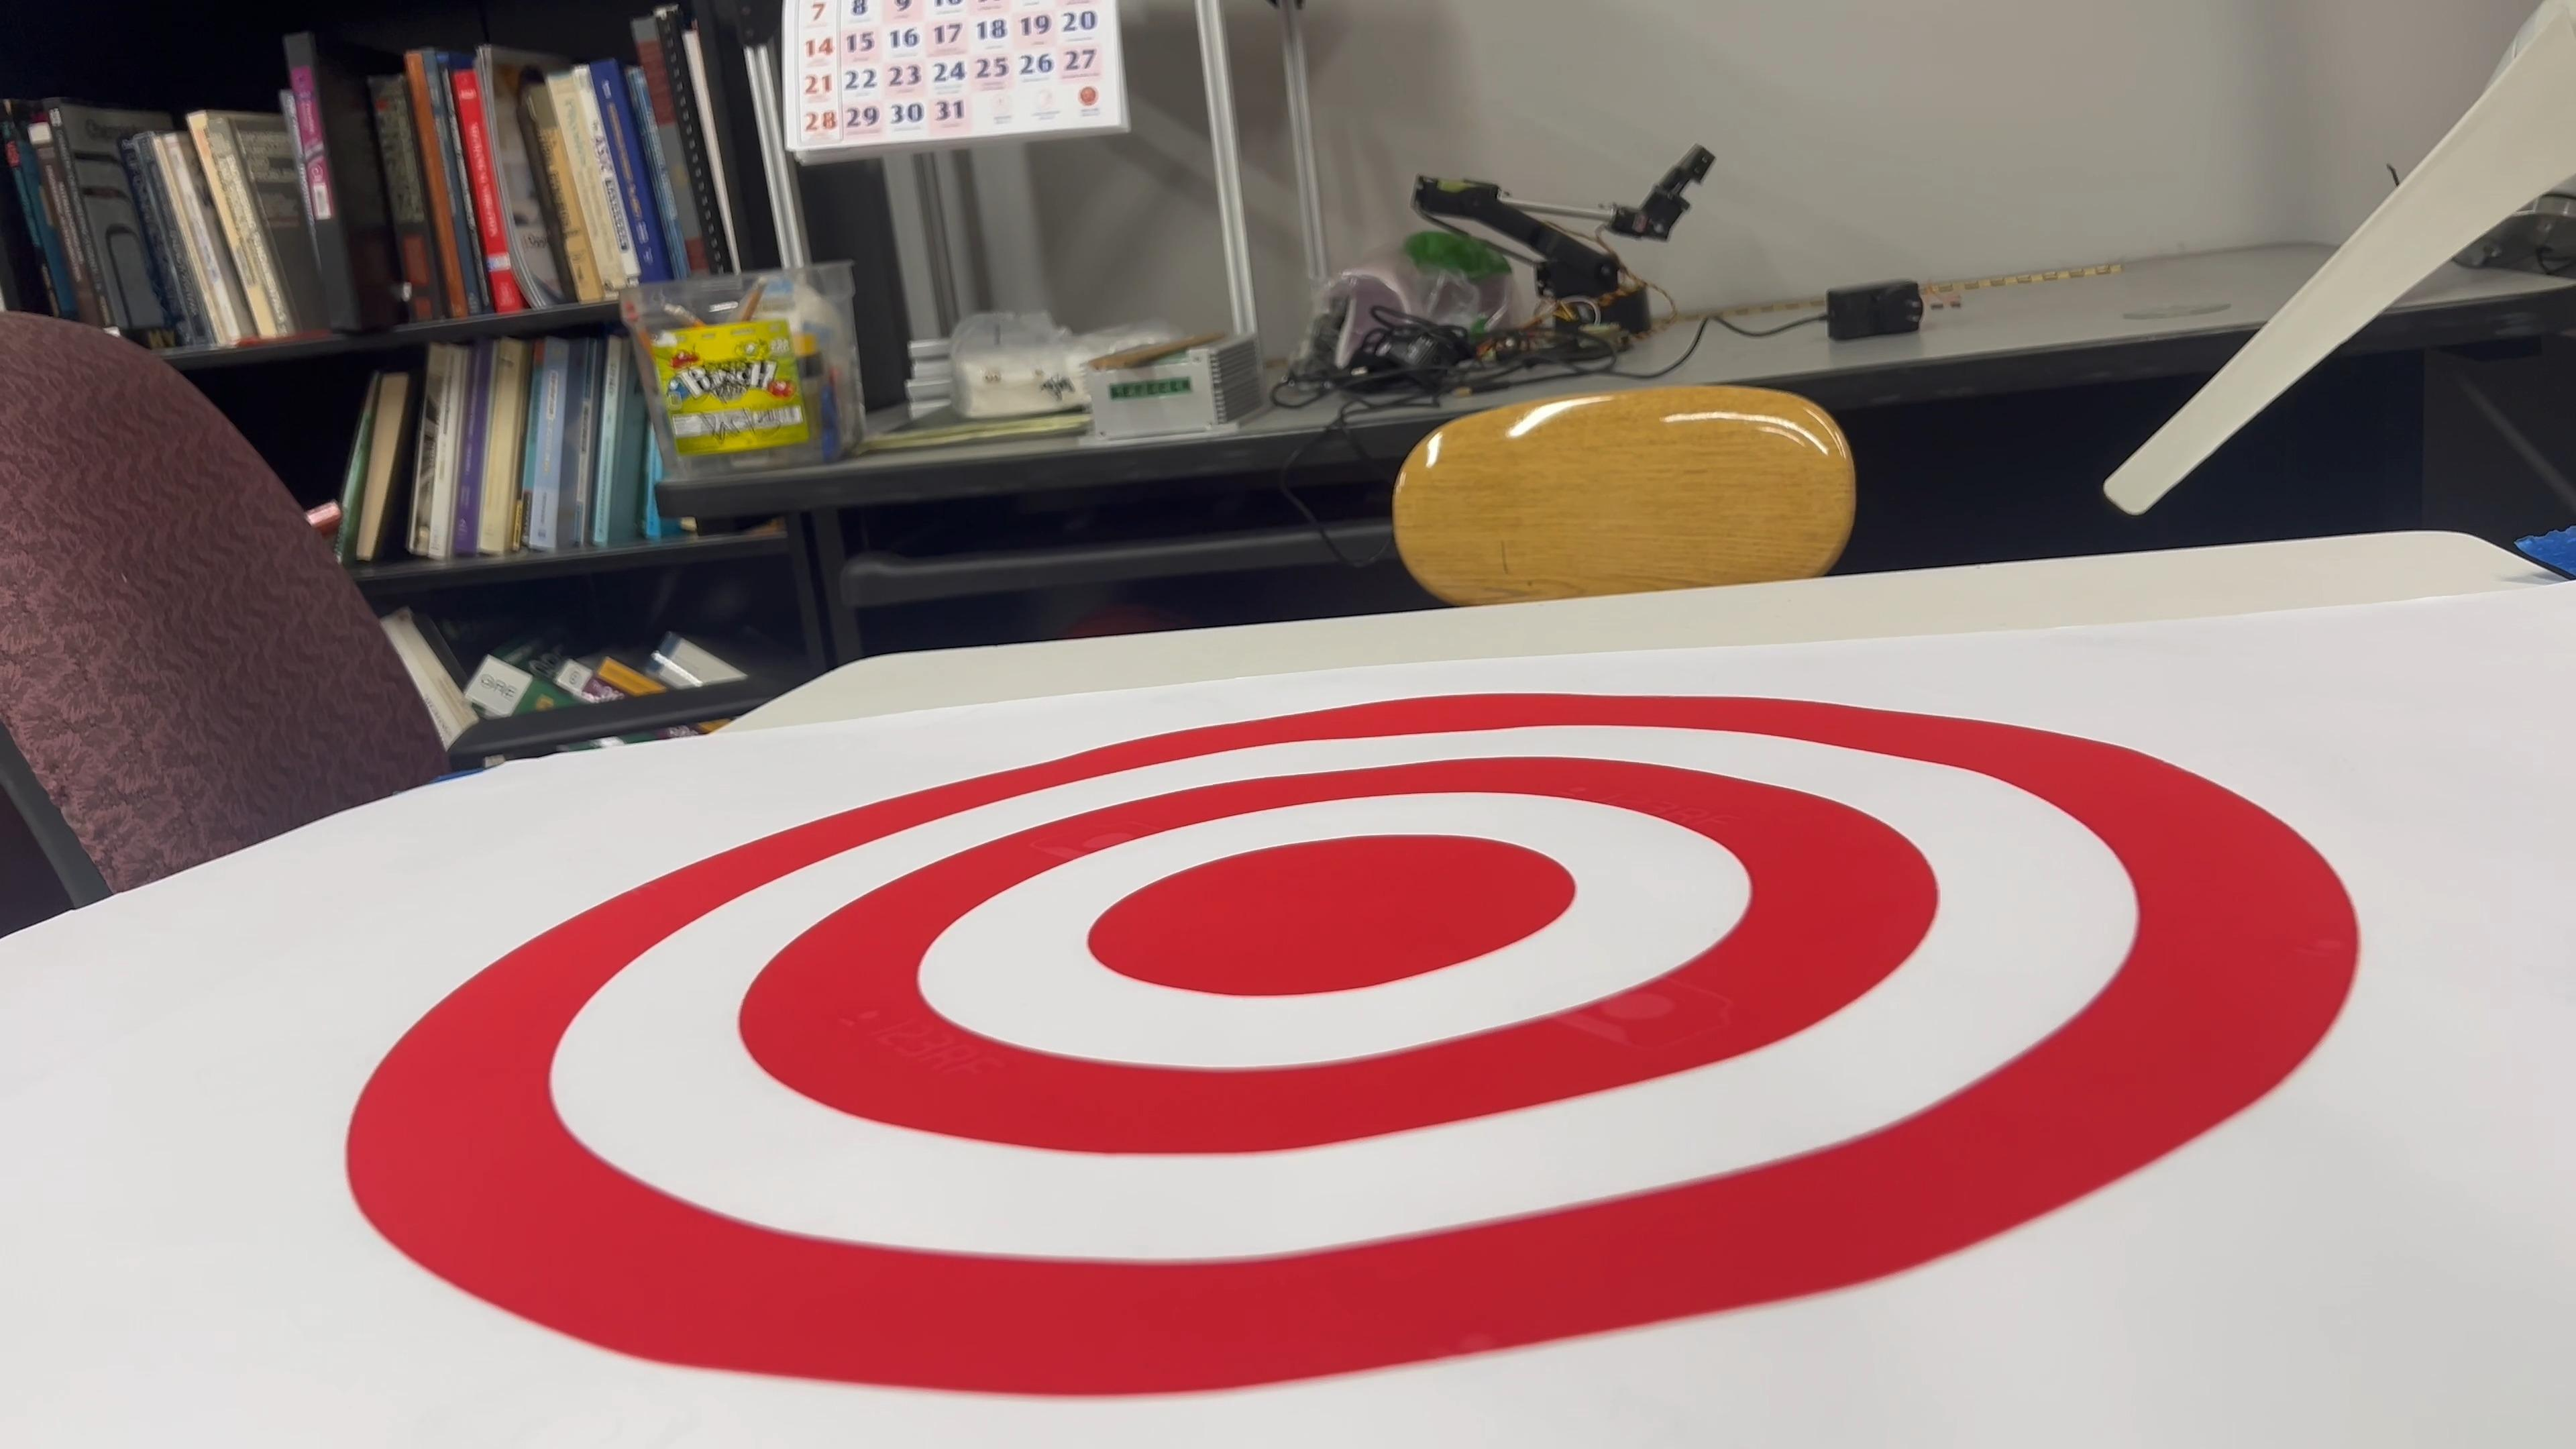target_red: (324, 632, 2385, 1417)
